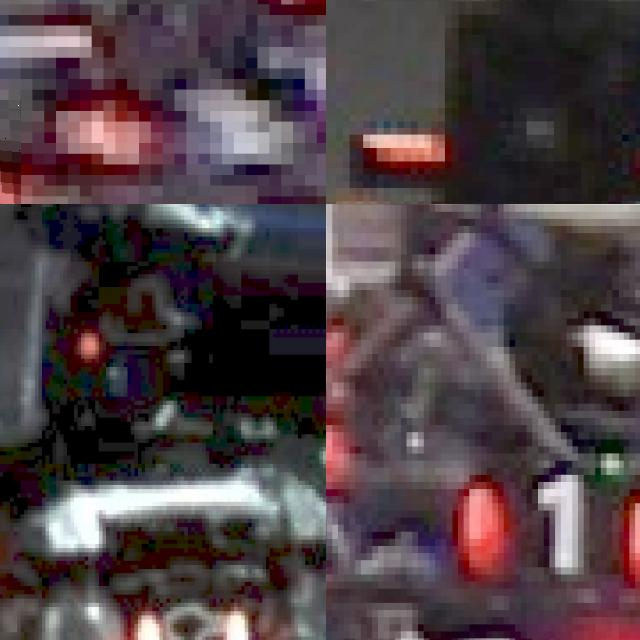R1: (429, 460, 640, 595)
Rs: (134, 602, 244, 640)
